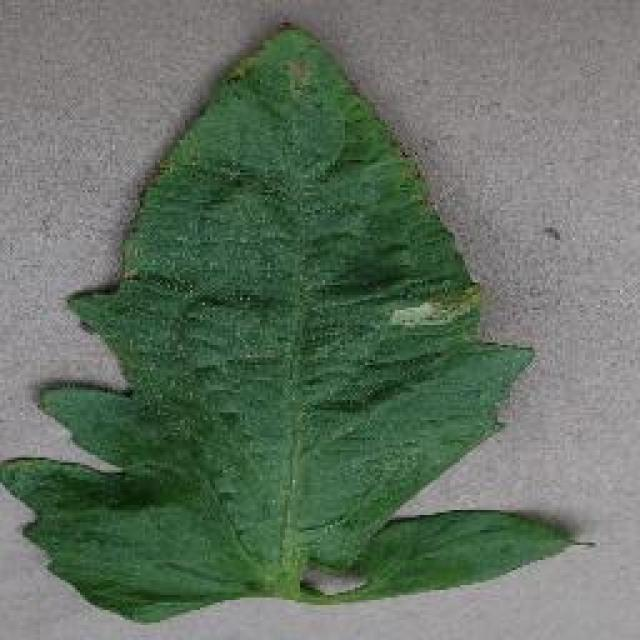Tom_Bacterial_spot: (369, 268, 495, 338), (276, 41, 324, 119)
